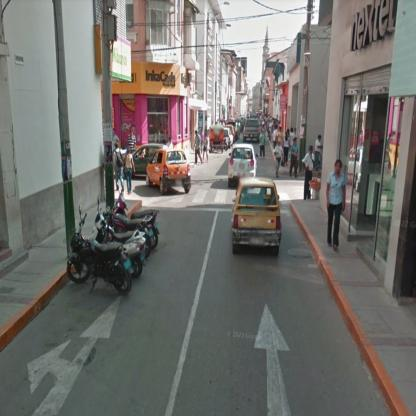Moto: (67, 210, 143, 297)
Peaton: (328, 159, 347, 255), (302, 146, 317, 201), (125, 149, 137, 197), (290, 138, 300, 179), (275, 140, 286, 177), (261, 130, 267, 161)
Pista: (1, 123, 391, 416)
Vehiculo: (233, 175, 282, 258), (146, 148, 192, 194), (230, 144, 258, 187)
